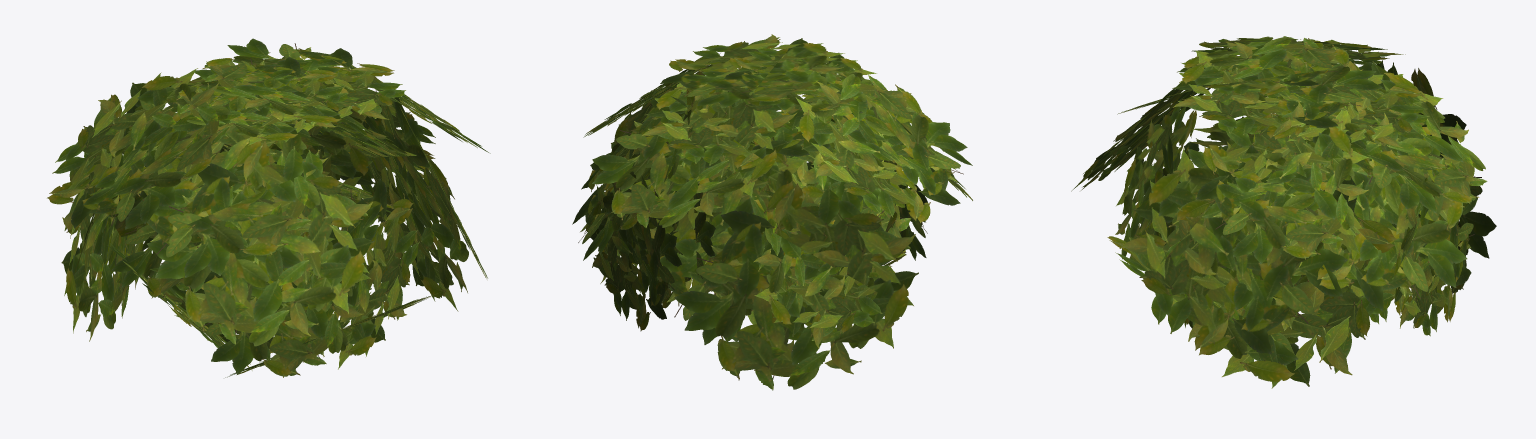
File: shrub_b.glb
3 renders of one model, left to right at view 1: azimuth 30°, elevation 25°; view 2: azimuth 150°, elevation 25°; view 3: azimuth 270°, elevation 25°, orthographic. The views are drawn at different scales.
Visible parts, largest first — view 1: shrub_b; view 2: shrub_b; view 3: shrub_b.
Part boxes in pixels (x1=…): shrub_b: x1=47, y1=38, x2=490, y2=377; shrub_b: x1=572, y1=34, x2=972, y2=390; shrub_b: x1=1071, y1=36, x2=1496, y2=388.
Bounding box in the file's own units: 3.78 × 2.7 × 3.43.
1 material, 1 textured.
